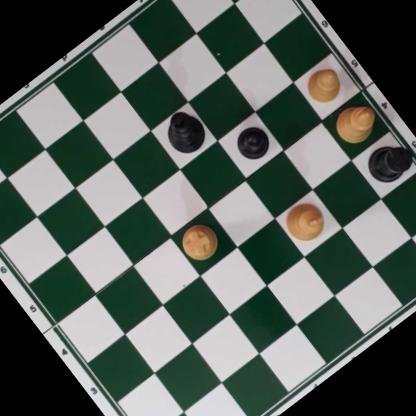black-king: (155, 104, 212, 162)
black-pawn: (229, 119, 276, 166)
black-rook: (359, 134, 416, 192)
white-bishop: (328, 95, 385, 151)
white-king: (277, 194, 333, 250)
white-pawn: (300, 63, 347, 110)
white-rook: (175, 218, 224, 267)
